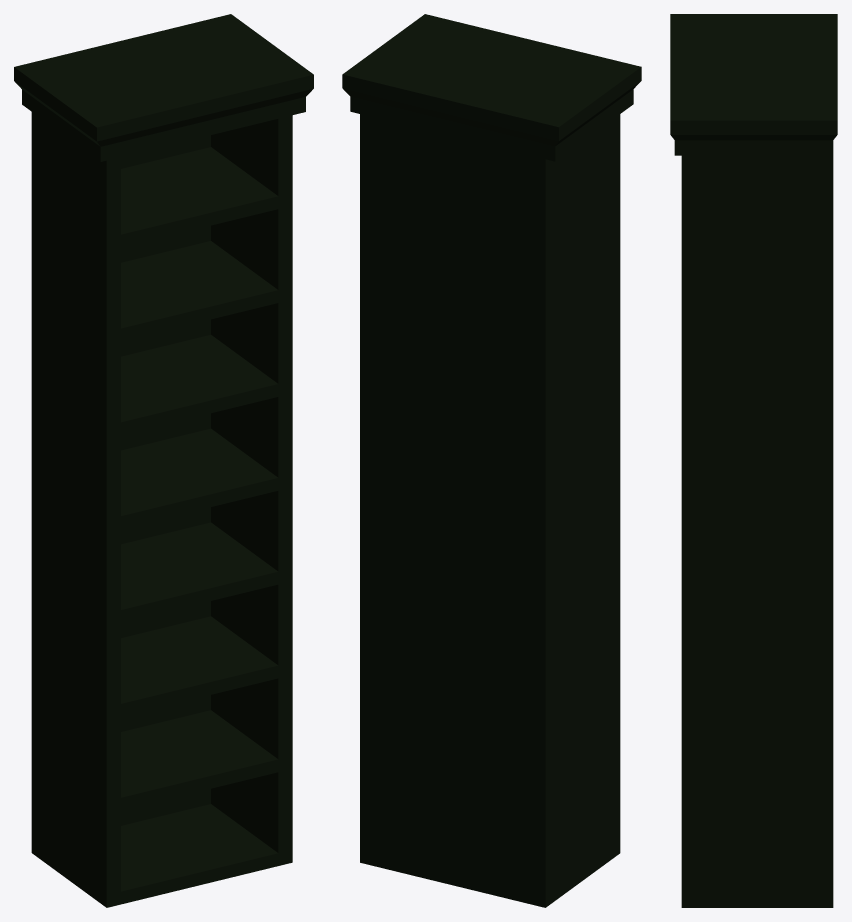
Rendered from Prop_Shelve_07.fbx.
The picture shows the model from 3 angles, left to right: view 1: azimuth 30°, elevation 25°; view 2: azimuth 150°, elevation 25°; view 3: azimuth 270°, elevation 25°; orthographic projection.
Visible parts, largest first — view 1: Prop_Shelve_07; view 2: Prop_Shelve_07; view 3: Prop_Shelve_07.
Boxes of the visible parts, box(x1,y1,x2,y2) form: Prop_Shelve_07: box(14, 14, 313, 907); Prop_Shelve_07: box(342, 14, 641, 907); Prop_Shelve_07: box(670, 14, 837, 907).
Bounding box in the file's own units: 55.72 × 193 × 36.82.
